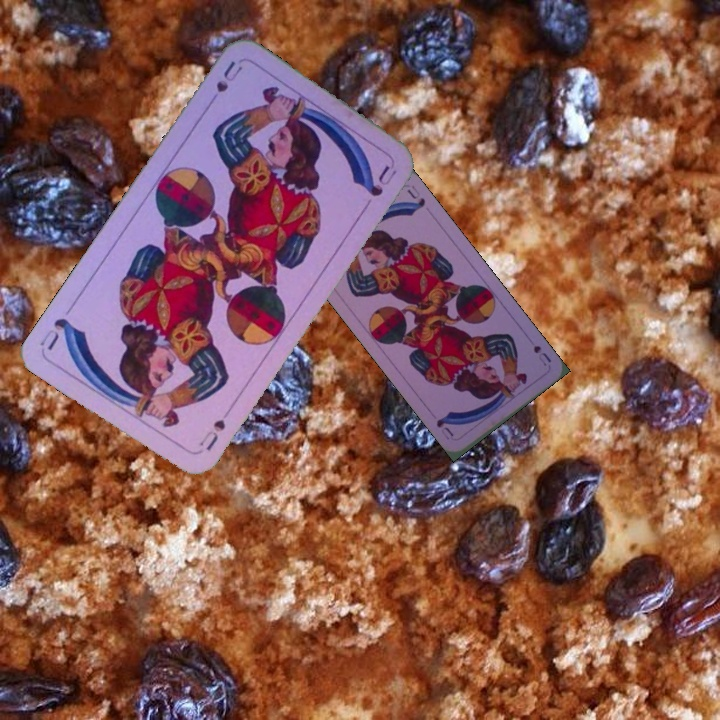SU: (203, 57, 246, 111), (195, 404, 234, 453), (529, 341, 554, 368)
